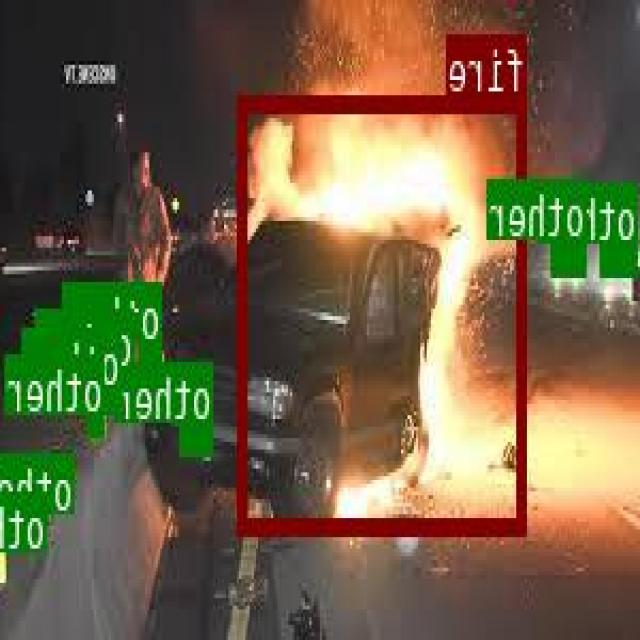fire: (239, 92, 527, 530)
other: (553, 238, 588, 272), (602, 244, 638, 274), (182, 422, 214, 453), (21, 489, 49, 522), (52, 452, 76, 478), (142, 340, 164, 366), (106, 387, 123, 411), (91, 413, 106, 434), (122, 370, 136, 388)
